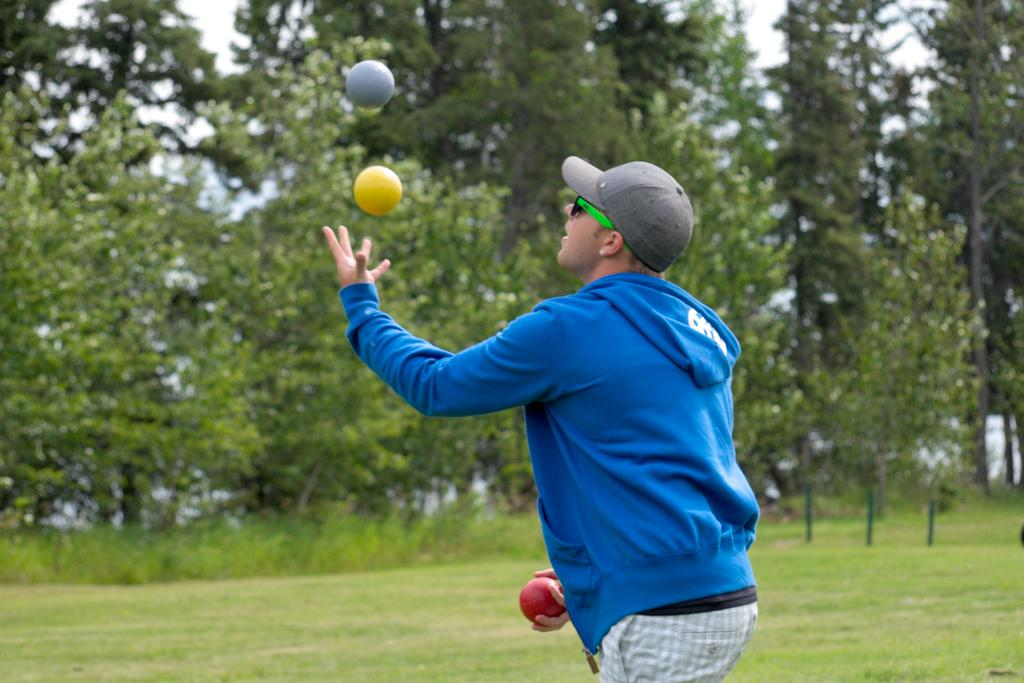Hat: (562, 154, 694, 274)
